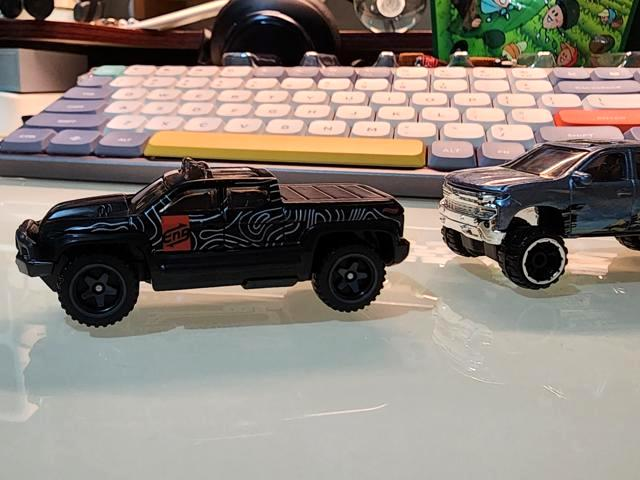toy-car: (14, 156, 411, 329), (438, 138, 640, 290)
